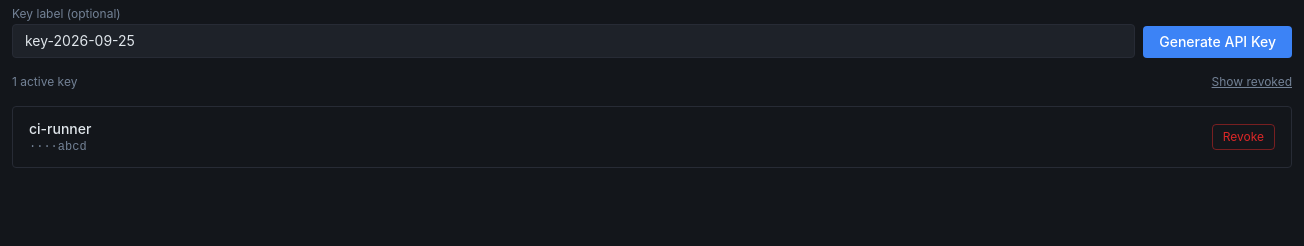
APIKeyManager › shows revoked keys when toggle is clicked
This screenshot has width=1304, height=246.
Expected: the element with test id "key-row-k1" is shown, [29,120,1275,154]
Click the button with test id "show-revoked-toggle" at (1252, 82), box [1212,74,1292,90]
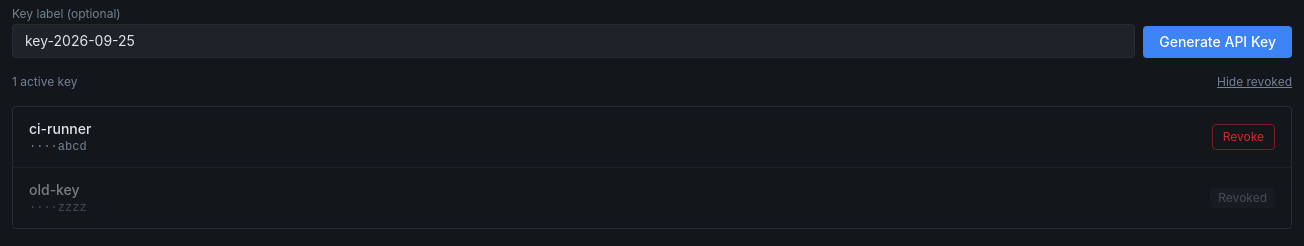
Expected: the element with test id "key-row-k2" is shown, [29,181,1275,215]
